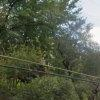Tree: (5, 0, 100, 50)
